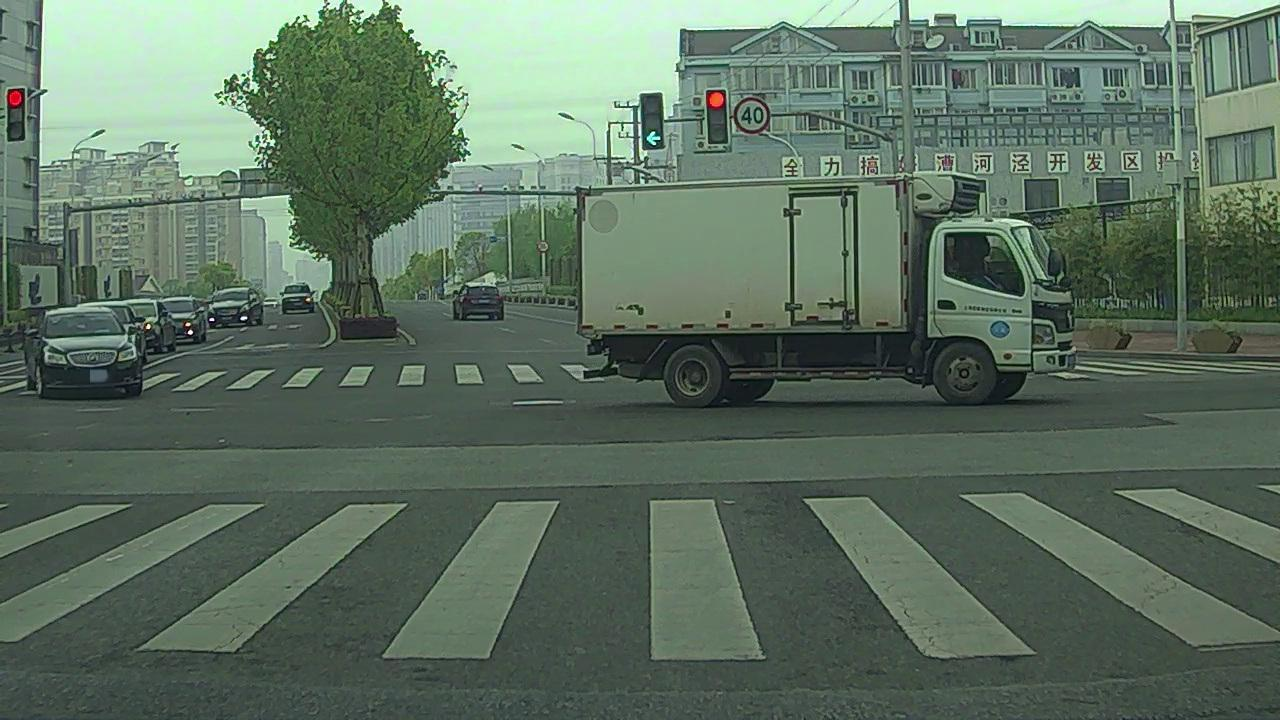traffic_light: (639, 95, 663, 148), (706, 90, 728, 144), (7, 89, 24, 142)
